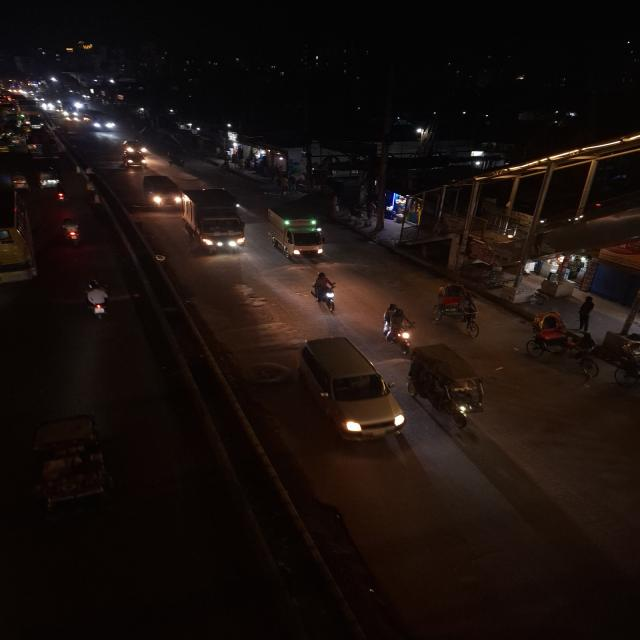bus: (0, 179, 39, 292)
car: (291, 334, 404, 446), (140, 173, 181, 210), (119, 138, 153, 168)
cng: (35, 164, 63, 190), (8, 170, 30, 190)
motorcycle: (379, 301, 418, 354), (305, 270, 346, 316), (80, 278, 116, 324), (58, 213, 86, 249), (54, 185, 69, 205)
pedestrian: (576, 295, 596, 331)
rickshaw: (22, 410, 118, 519), (406, 341, 495, 431), (524, 309, 599, 379), (429, 281, 485, 337), (8, 170, 29, 190)
truck: (179, 186, 250, 254), (265, 203, 330, 263)
